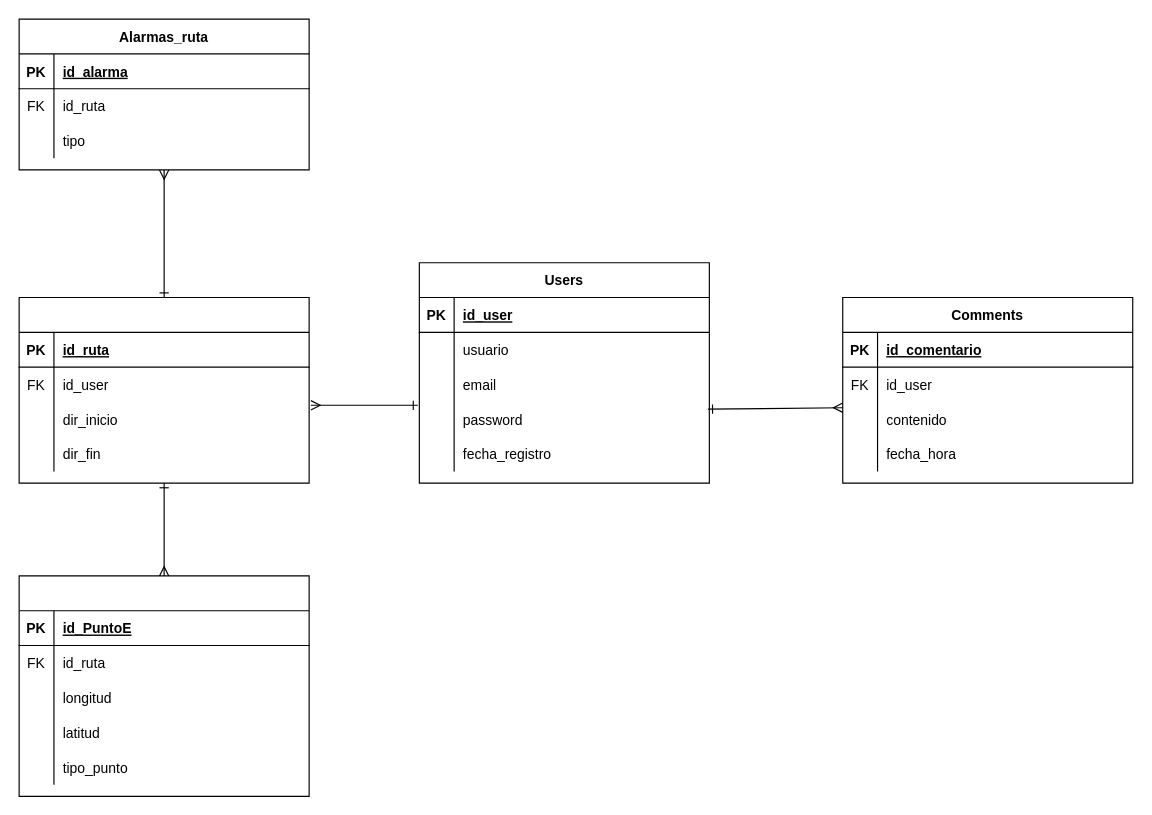
This 1152x815 diagram has some shape labels left out. The shapes that lost their labels are listed below. From the top down, each one's box as (x1, y1, x2, y2) in pixels, then its label:
(18, 296, 309, 483): Rutas
(18, 575, 309, 796): Puntos_E
